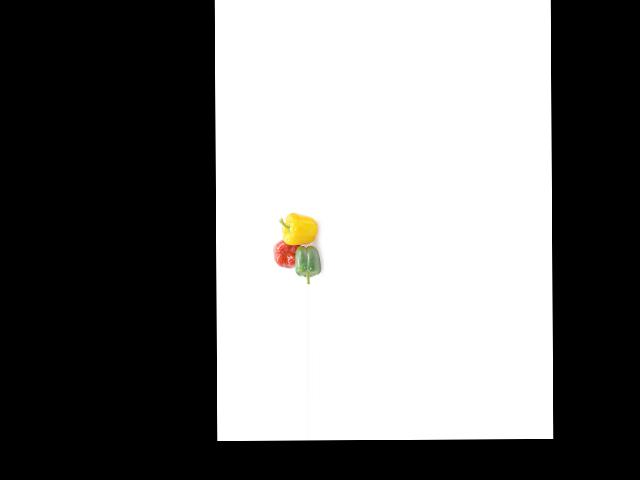bell_pepper: (291, 238, 321, 281)
